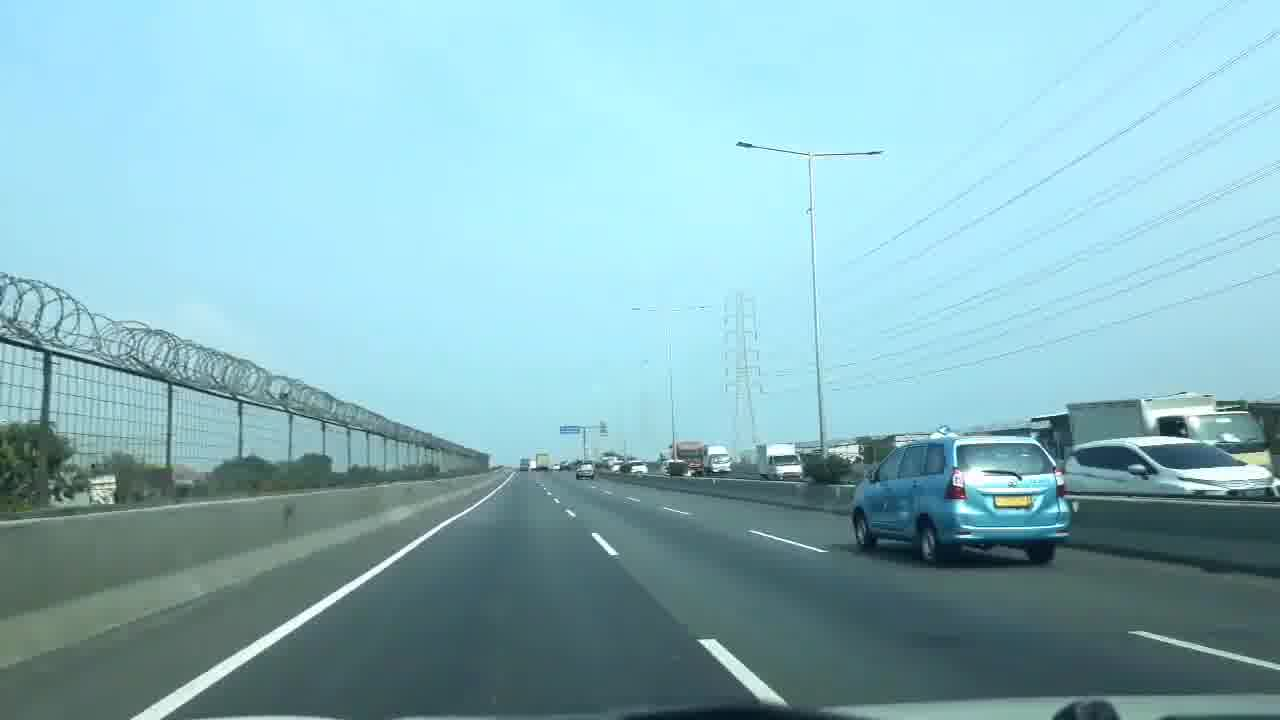plate_positive: (994, 494, 1032, 507)
